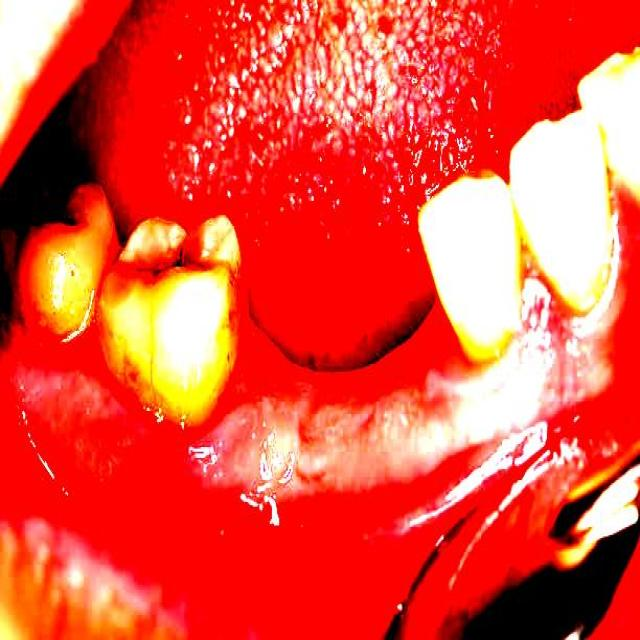caries: (144, 221, 213, 304)
